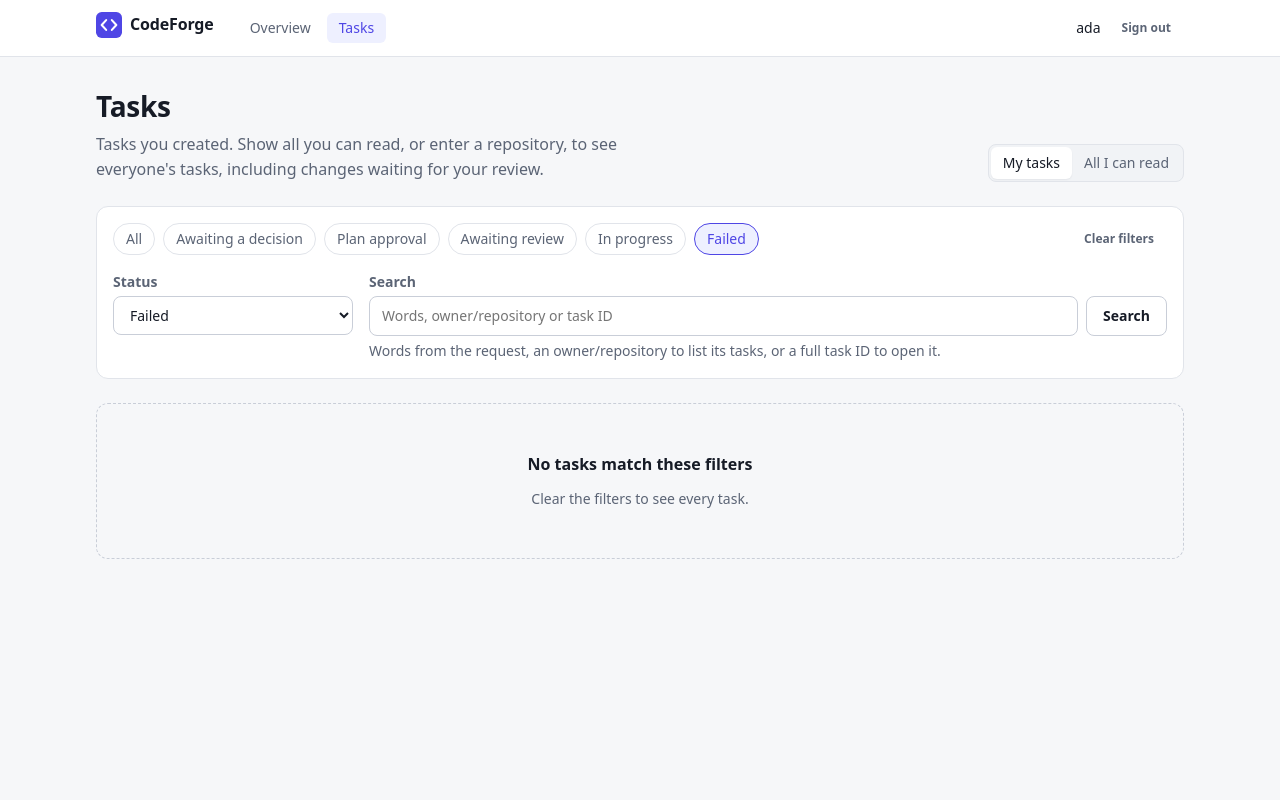
it: task list › offers to clear filters when nothing matches
Check: the text "No tasks match these filters" is shown, box [528,452,752,476]
Click the button "Clear filters".
click(1119, 239)  # box [1071,223,1167,255]
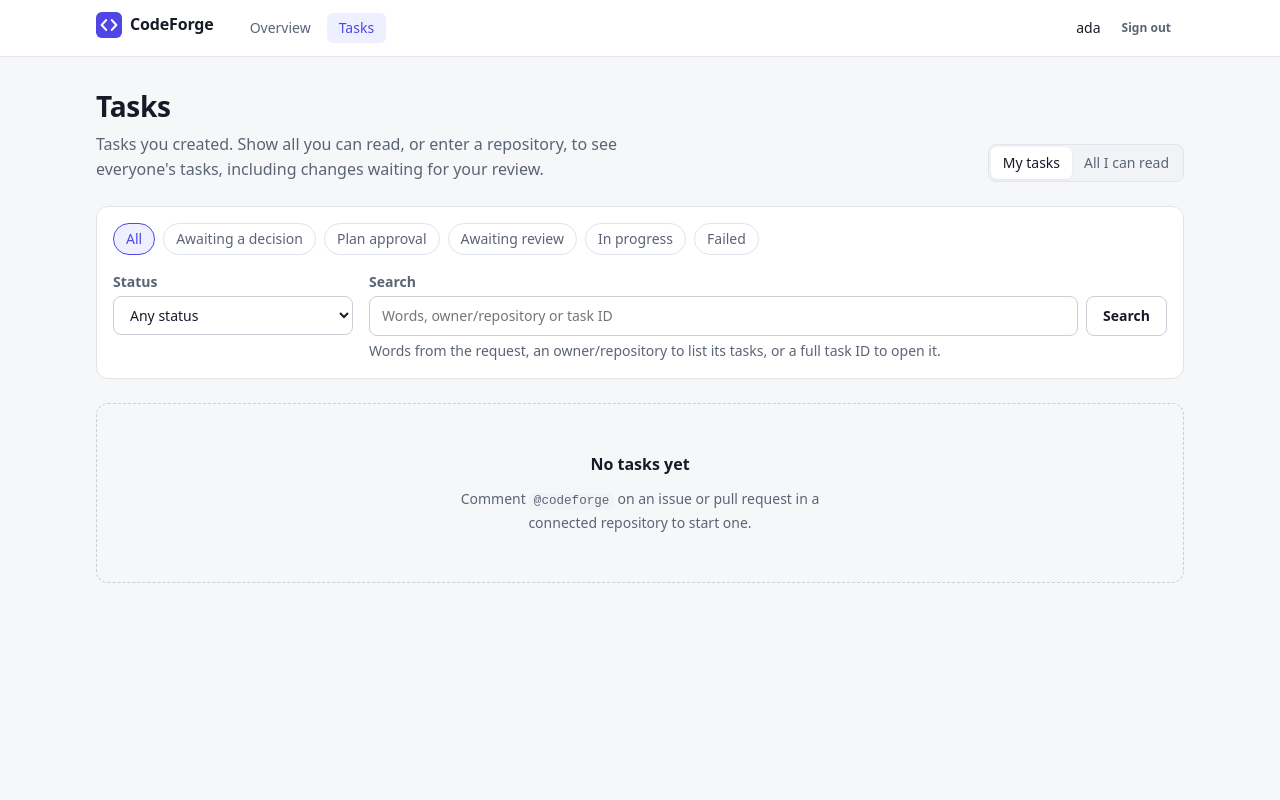
Check: the text "No tasks yet" is shown, box [590,452,690,476]
